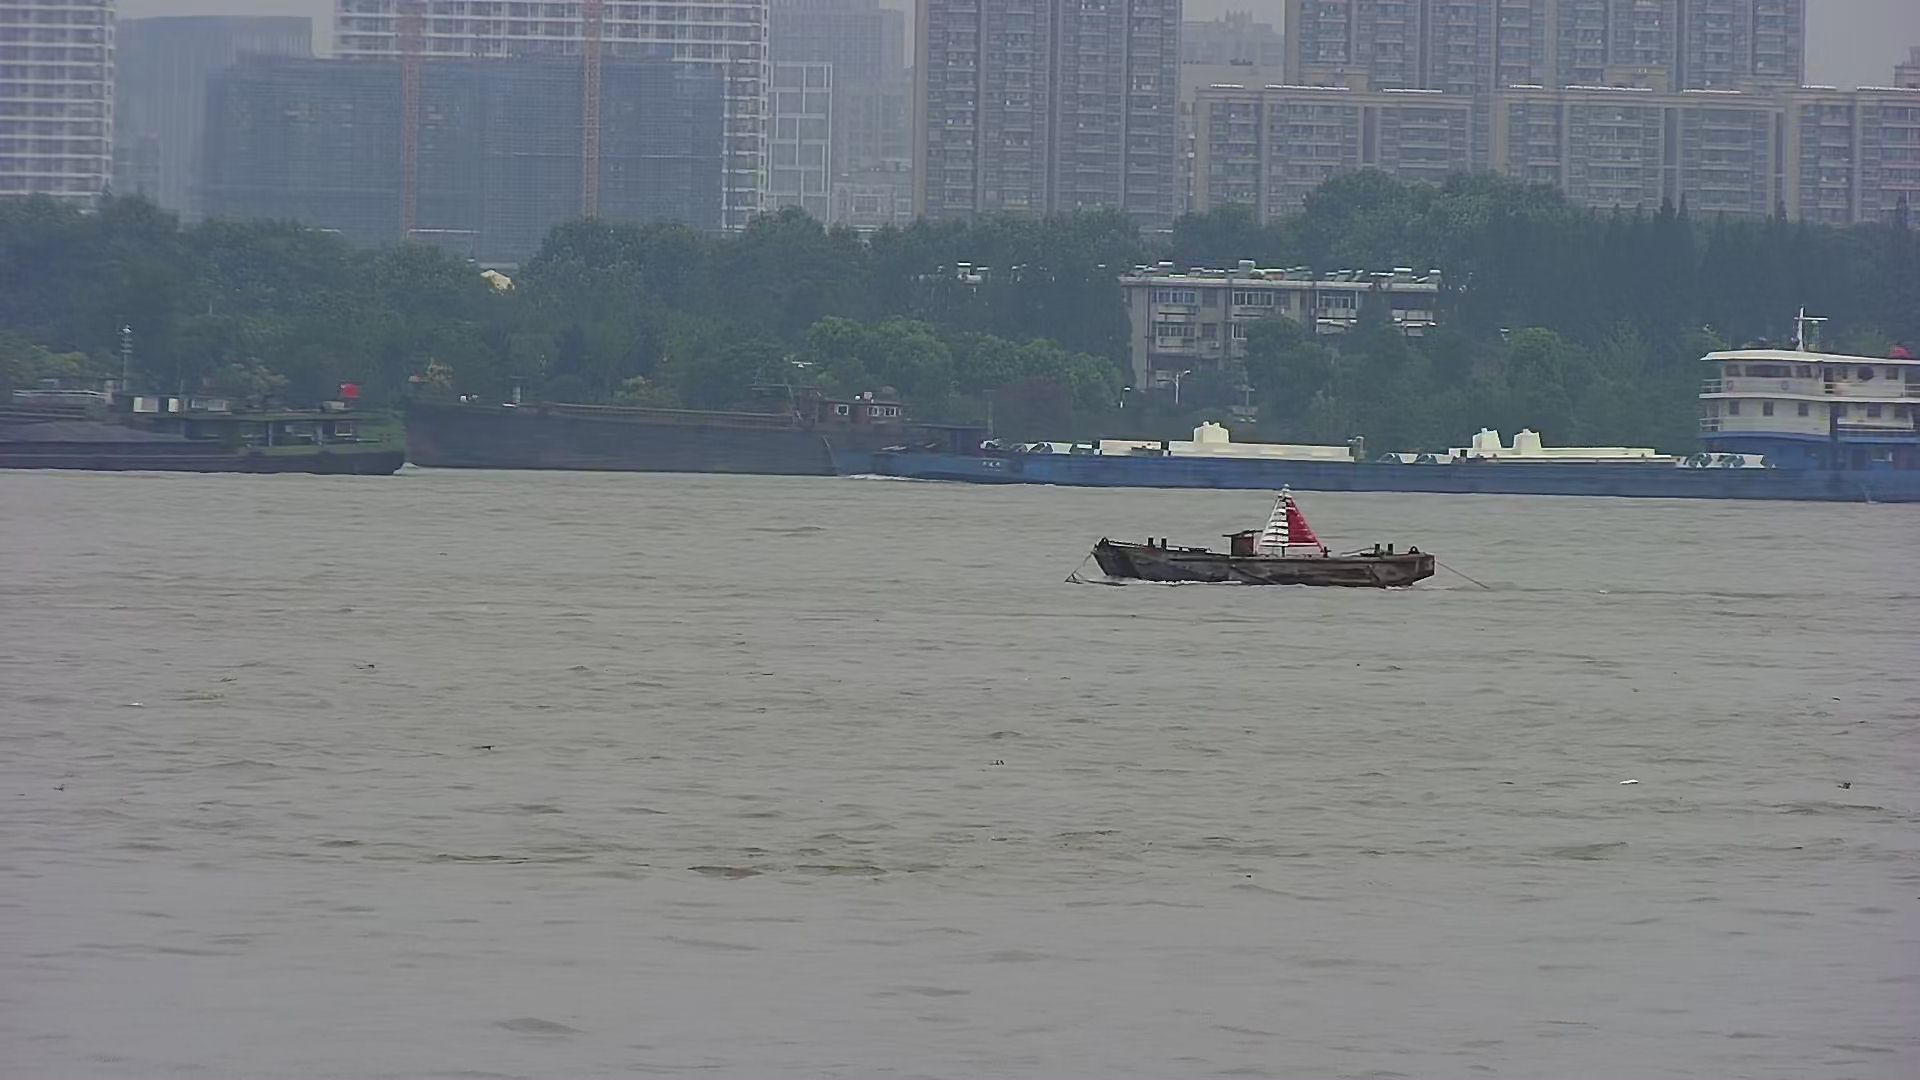boat: (1083, 481, 1439, 588)
ship: (886, 313, 1917, 502), (419, 393, 949, 472), (8, 386, 406, 475)
